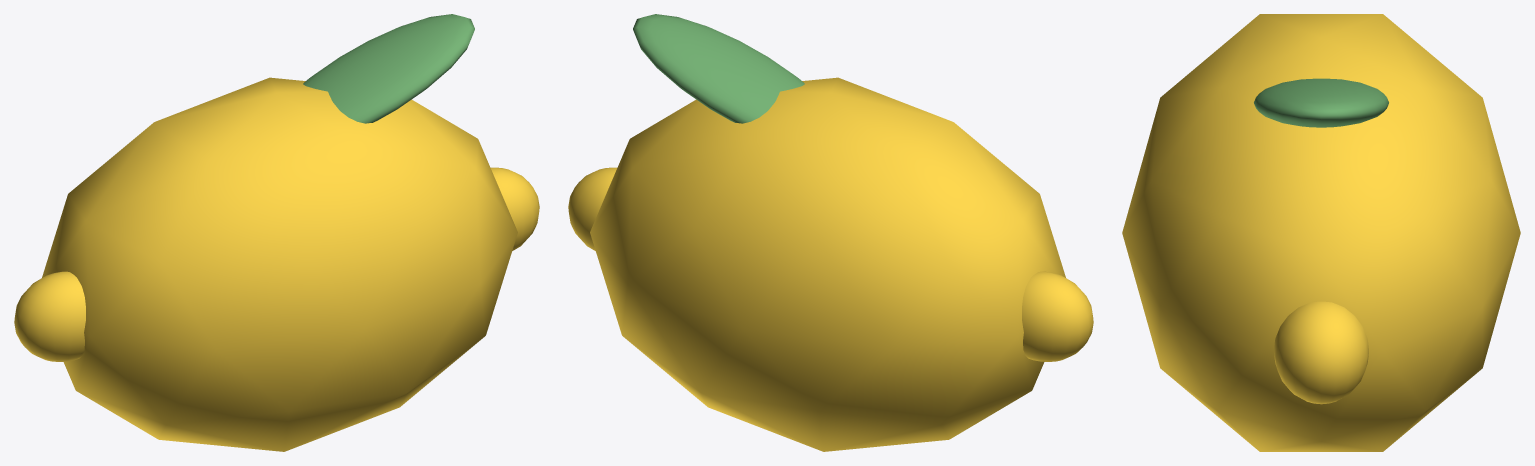
File: q_trick_lemon.glb
The picture shows the model from 3 angles, left to right: view 1: azimuth 30°, elevation 25°; view 2: azimuth 150°, elevation 25°; view 3: azimuth 270°, elevation 25°; orthographic projection. The views are drawn at different scales.
Visible parts, largest first — view 1: q_trick_lemon / material batches; view 2: q_trick_lemon / material batches; view 3: q_trick_lemon / material batches.
Boxes of the visible parts, left/top/right/bottom form: q_trick_lemon / material batches: left=14, top=14, right=539, bottom=451; q_trick_lemon / material batches: left=568, top=14, right=1093, bottom=451; q_trick_lemon / material batches: left=1122, top=14, right=1520, bottom=451.
Size of the model in its own units: 0.85 by 0.5862 by 0.5.
